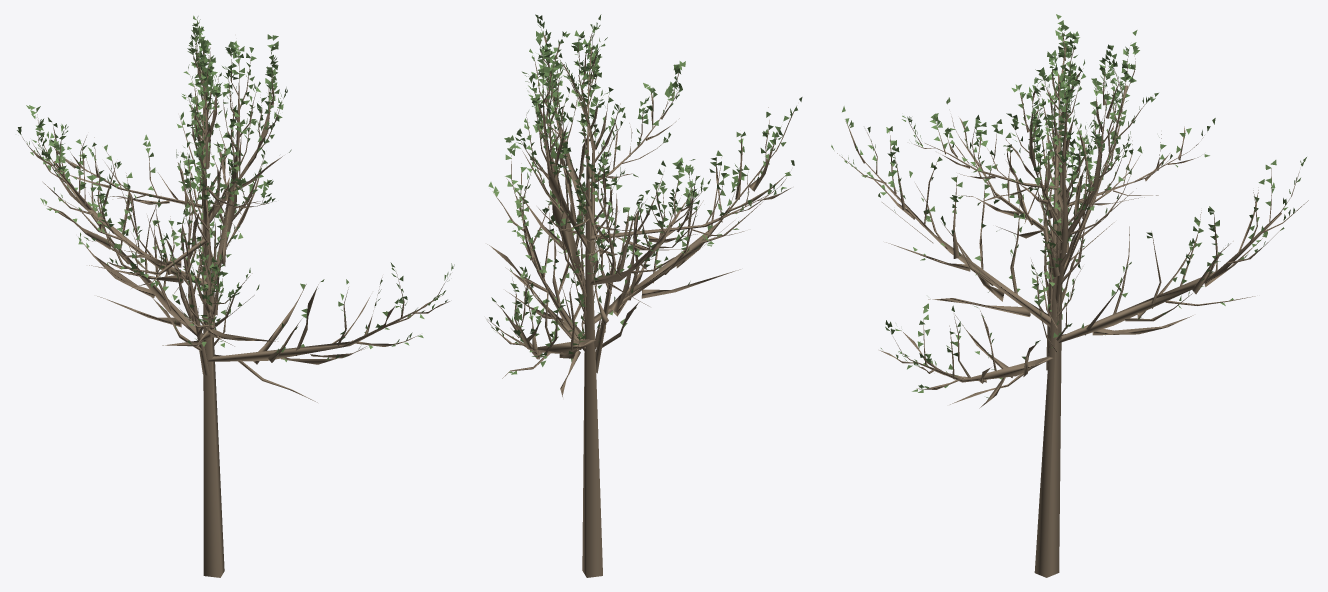
The model's file is Oak_02_LOD0.fbx.
3 views of the same model, side by side, from view 1: azimuth 30°, elevation 25°; view 2: azimuth 150°, elevation 25°; view 3: azimuth 270°, elevation 25° (orthographic). The views are drawn at different scales.
Parts seen in each view (by area): view 1: Oak; view 2: Oak; view 3: Oak.
Part boxes in pixels (<box>): Oak: <box>17,15,454,577</box>; Oak: <box>486,14,802,577</box>; Oak: <box>831,14,1308,577</box>.
Size of the model in its own units: 646 by 1055 by 835.
